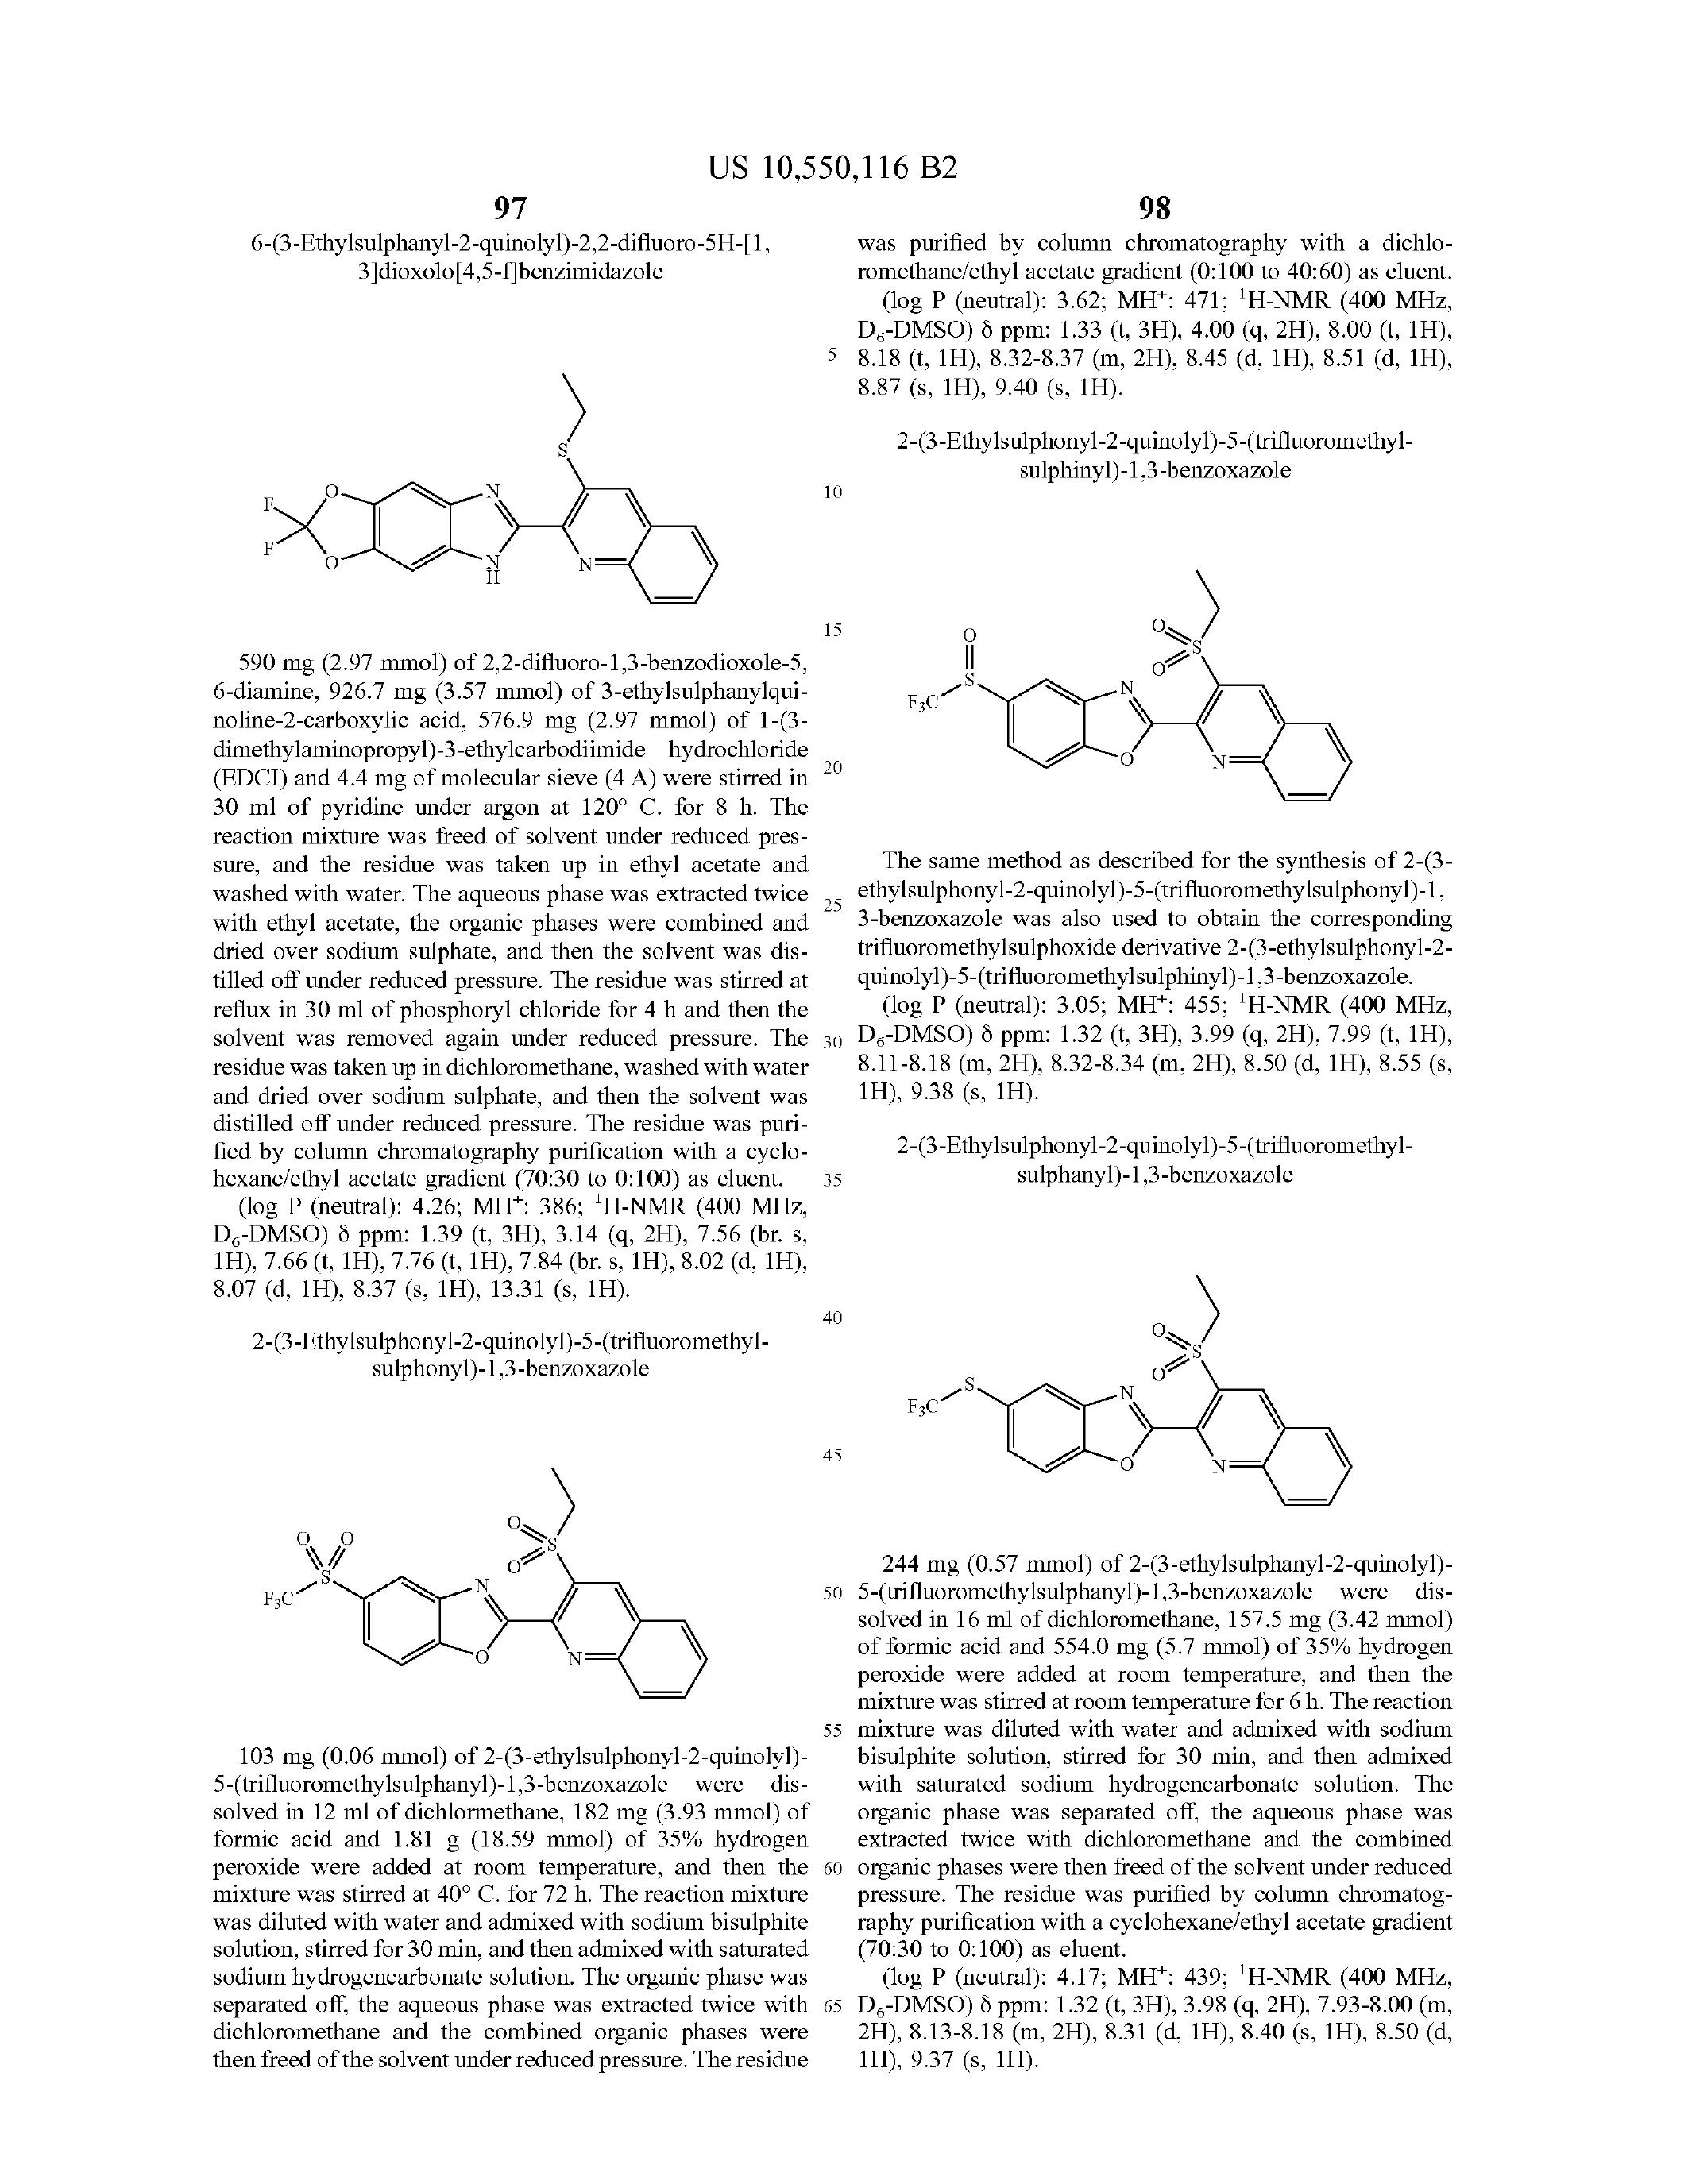relevant-structures: (246, 349, 782, 638), (255, 1434, 771, 1727), (903, 1292, 1411, 1537), (915, 546, 1362, 817)
